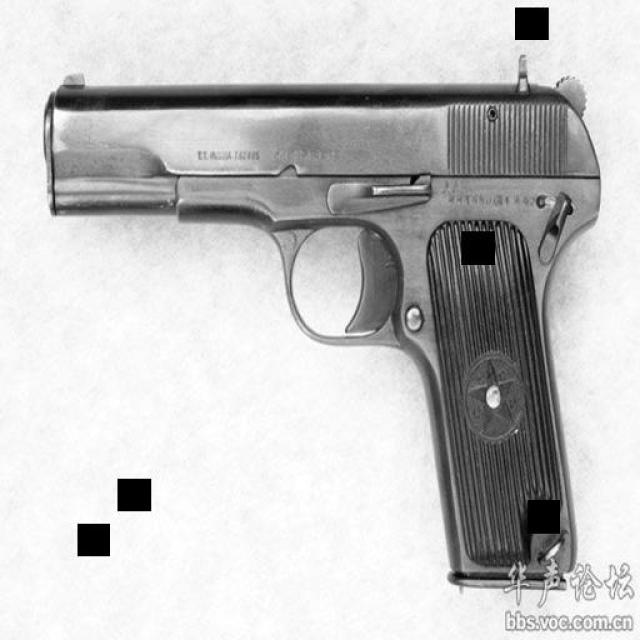gun: (39, 46, 598, 590)
